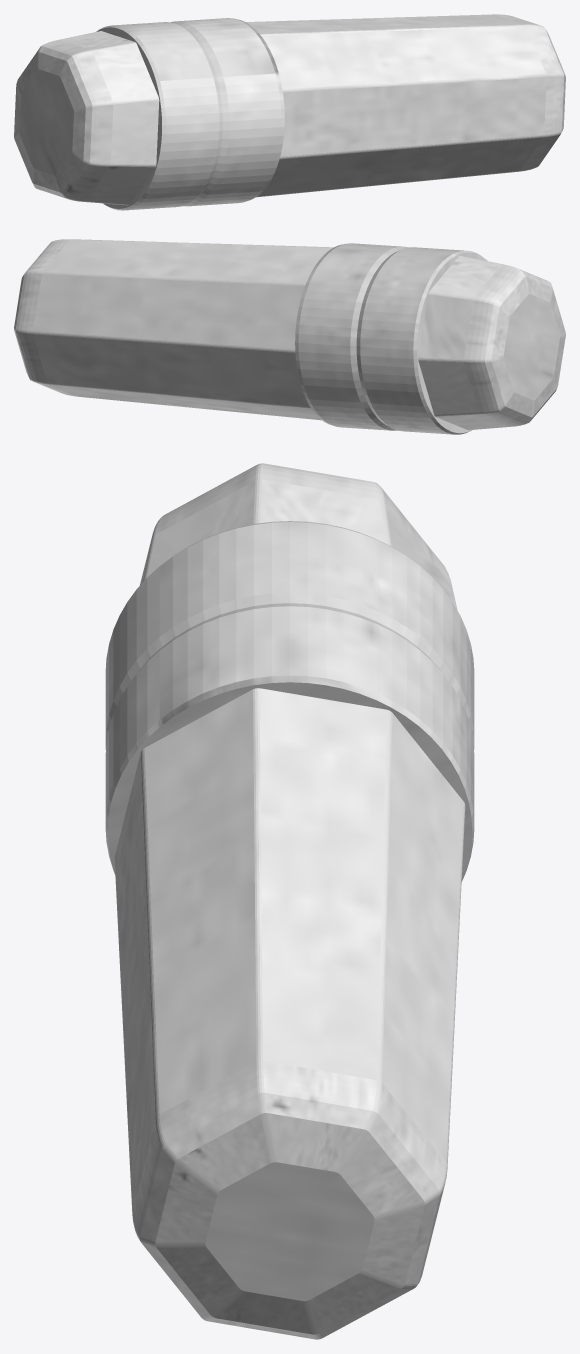
File: medalion.gltf
The picture shows the model from 3 angles, top to bottom: view 1: azimuth 30°, elevation 25°; view 2: azimuth 150°, elevation 25°; view 3: azimuth 270°, elevation 25°; orthographic projection. The views are drawn at different scales.
Parts seen in each view (by area): view 1: medalion; view 2: medalion; view 3: medalion.
Boxes of the visible parts, x1,y1,x2,y2 form: medalion: [14, 14, 565, 210]; medalion: [14, 239, 565, 434]; medalion: [105, 463, 474, 1339].
Bounding box in the file's own units: 4.7 × 2 × 1.5.
1 material, 1 textured.
